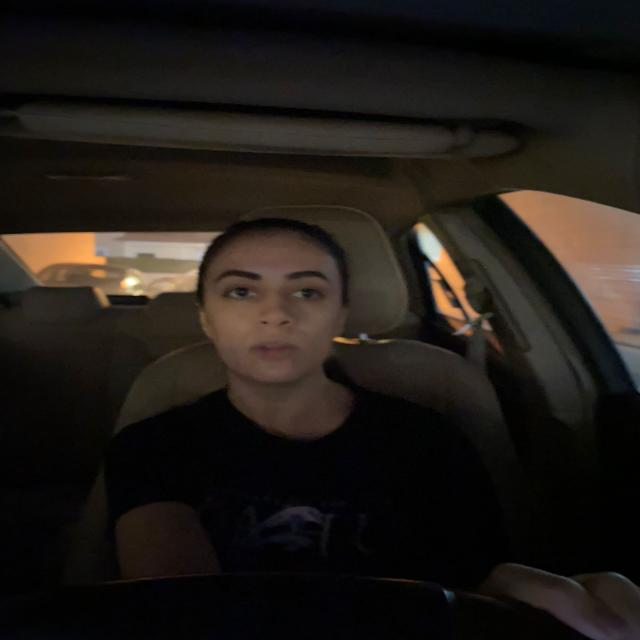person: (192, 223, 358, 389)
